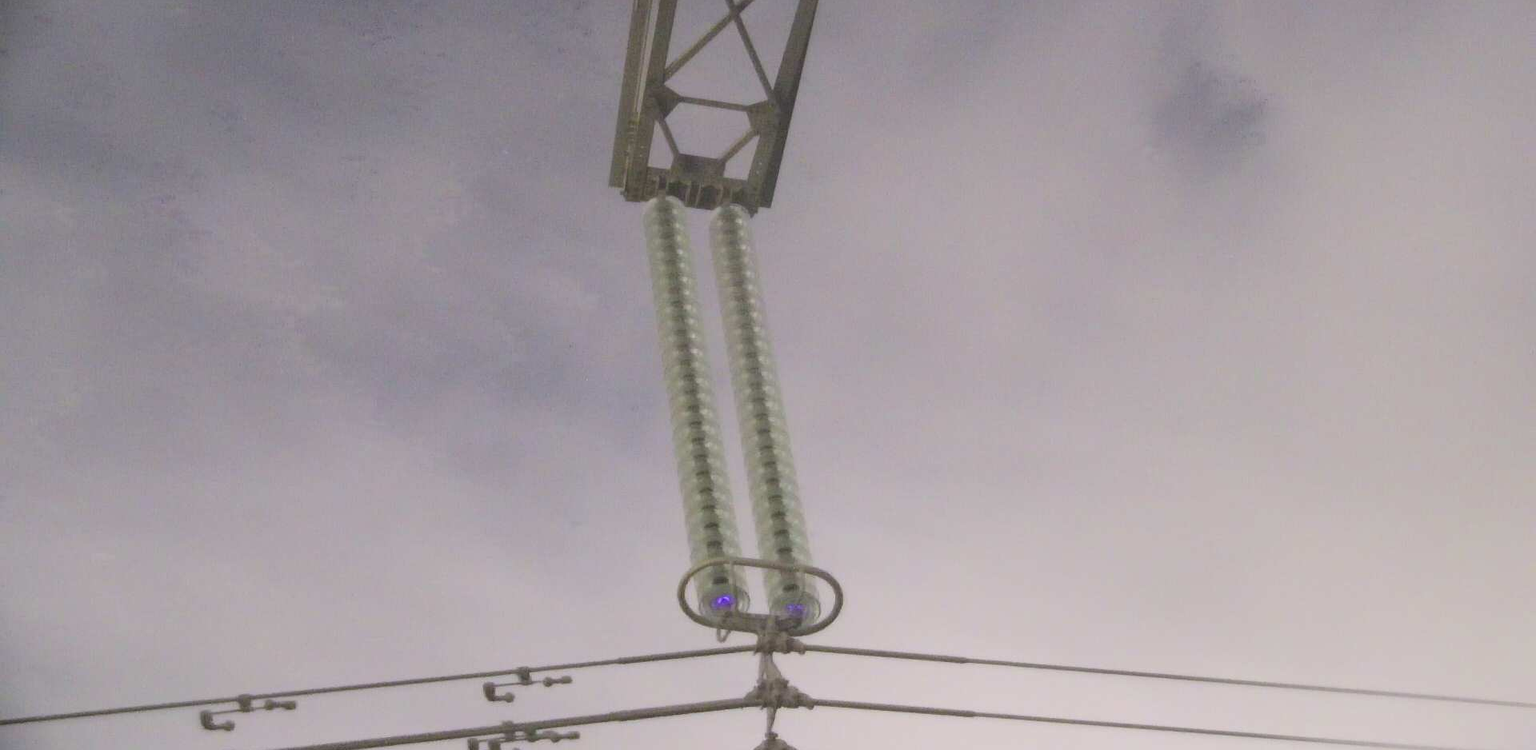绝缘子污闪: (712, 595, 734, 608), (786, 604, 804, 612)
